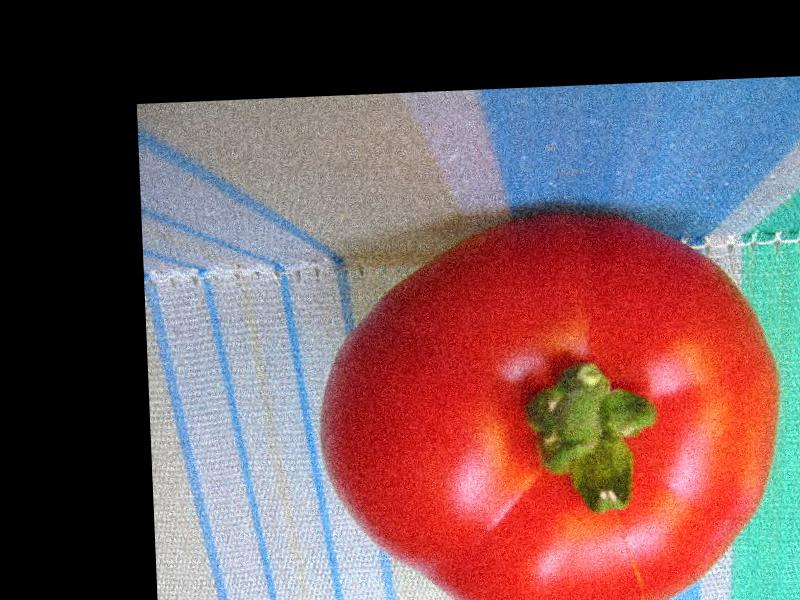Tomato: (315, 201, 788, 600)
